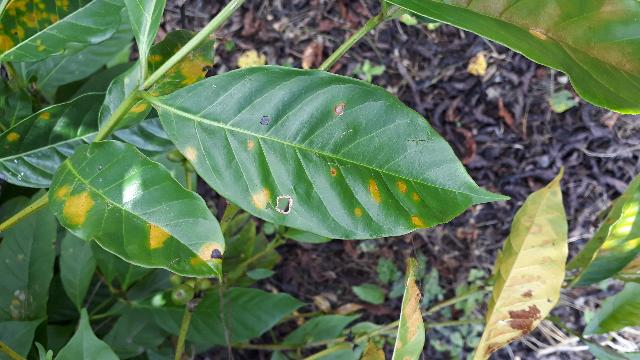rust_level_1: (151, 63, 517, 243)
